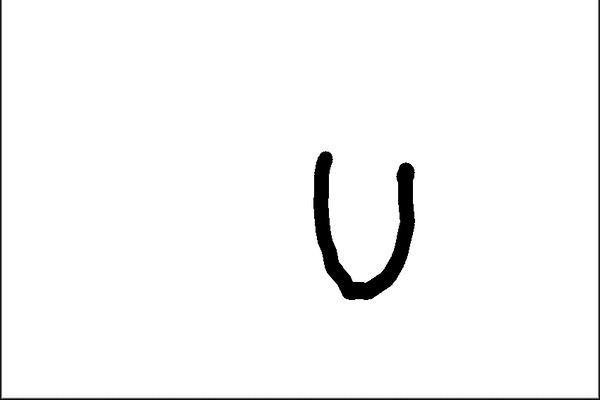U: (304, 142, 420, 306)
